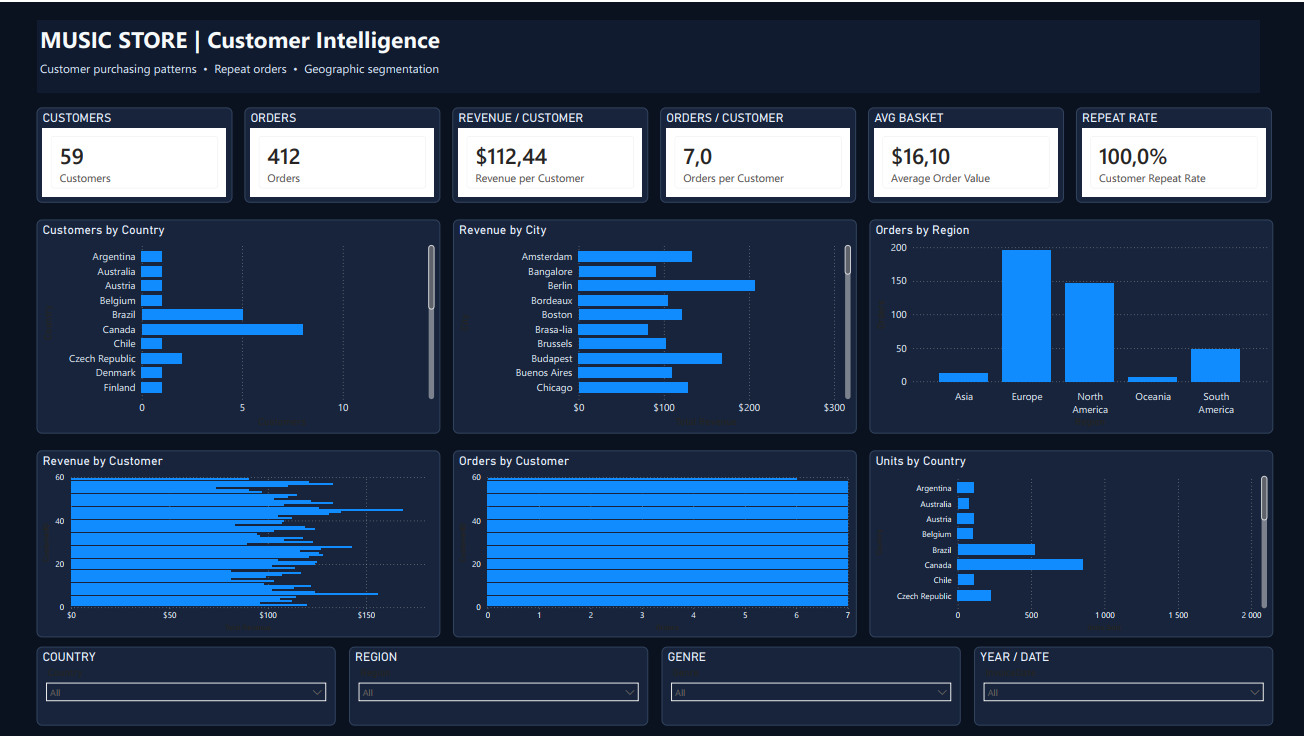

This screenshot's page, from the dashboard's own definition file:
{"tool":"powerbi","page":{"name":"Customer Intelligence","canvas":[1920,1080],"ordinal":1},"visuals":[{"type":"textbox","box":[55,26,1800,54],"z":100},{"type":"textbox","box":[55,80,1800,54],"z":101},{"type":"cardVisual","title":"CUSTOMERS","fields":{"Data":["Music Sales.Customers"]},"box":[55,155,288,140],"z":102},{"type":"cardVisual","title":"ORDERS","fields":{"Data":["Music Sales.Orders"]},"box":[361,155,288,140],"z":103},{"type":"cardVisual","title":"REVENUE / CUSTOMER","fields":{"Data":["Music Sales.Revenue per Customer"]},"box":[667,155,288,140],"z":104},{"type":"cardVisual","title":"ORDERS / CUSTOMER","fields":{"Data":["Music Sales.Orders per Customer"]},"box":[973,155,288,140],"z":105},{"type":"cardVisual","title":"AVG BASKET","fields":{"Data":["Music Sales.Average Order Value"]},"box":[1279,155,288,140],"z":106},{"type":"cardVisual","title":"REPEAT RATE","fields":{"Data":["Music Sales.Customer Repeat Rate"]},"box":[1585,155,288,140],"z":107},{"type":"barChart","title":"Customers by Country","fields":{"Category":["Music Sales.Country"],"Y":["Music Sales.Customers"]},"box":[55,320,594,315],"z":108},{"type":"barChart","title":"Revenue by City","fields":{"Category":["Music Sales.City"],"Y":["Music Sales.Total Revenue"]},"box":[668,320,594,315],"z":109},{"type":"clusteredColumnChart","title":"Orders by Region","fields":{"Category":["Music Sales.Region"],"Y":["Music Sales.Orders"]},"box":[1281,320,594,315],"z":110},{"type":"barChart","title":"Revenue by Customer","fields":{"Category":["Music Sales.CustomerID"],"Y":["Music Sales.Total Revenue"]},"box":[55,660,594,275],"z":111},{"type":"barChart","title":"Orders by Customer","fields":{"Category":["Music Sales.CustomerID"],"Y":["Music Sales.Orders"]},"box":[668,660,594,275],"z":112},{"type":"barChart","title":"Units by Country","fields":{"Category":["Music Sales.Country"],"Y":["Music Sales.Units Sold"]},"box":[1281,660,594,275],"z":113},{"type":"slicer","title":"COUNTRY","fields":{"Values":["Music Sales.Country"]},"box":[55,949,440,116],"z":114},{"type":"slicer","title":"REGION","fields":{"Values":["Music Sales.Region"]},"box":[515,949,440,116],"z":115},{"type":"slicer","title":"GENRE","fields":{"Values":["Music Sales.Genre"]},"box":[975,949,440,116],"z":116},{"type":"slicer","title":"YEAR / DATE","fields":{"Values":["Music Sales.InvoiceDate"]},"box":[1435,949,440,116],"z":117}]}

Visuals, with their boxes in screenshot pixels (x1, y1, x2, y2), scaled from the page's 1920x1080 canvas onto the 1305x736 screenshot:
textbox: detection(37, 18, 1261, 55)
textbox: detection(37, 55, 1261, 91)
"CUSTOMERS" cardVisual: detection(37, 106, 233, 201)
"ORDERS" cardVisual: detection(245, 106, 441, 201)
"REVENUE / CUSTOMER" cardVisual: detection(453, 106, 649, 201)
"ORDERS / CUSTOMER" cardVisual: detection(661, 106, 857, 201)
"AVG BASKET" cardVisual: detection(869, 106, 1065, 201)
"REPEAT RATE" cardVisual: detection(1077, 106, 1273, 201)
"Customers by Country" barChart: detection(37, 218, 441, 433)
"Revenue by City" barChart: detection(454, 218, 858, 433)
"Orders by Region" clusteredColumnChart: detection(871, 218, 1274, 433)
"Revenue by Customer" barChart: detection(37, 450, 441, 637)
"Orders by Customer" barChart: detection(454, 450, 858, 637)
"Units by Country" barChart: detection(871, 450, 1274, 637)
"COUNTRY" slicer: detection(37, 647, 336, 726)
"REGION" slicer: detection(350, 647, 649, 726)
"GENRE" slicer: detection(663, 647, 962, 726)
"YEAR / DATE" slicer: detection(975, 647, 1274, 726)
